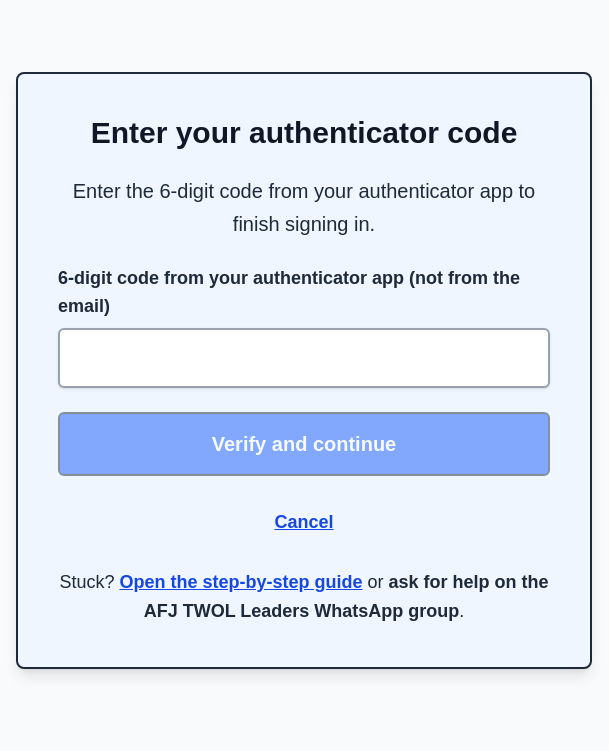
Test: LoginMfaCallbackPage › shows an error and does not navigate on if the server refuses the grant
The image size is (609, 751).
In the field labelled "6-digit code": (304, 358) [58,328,550,388], type "123456"
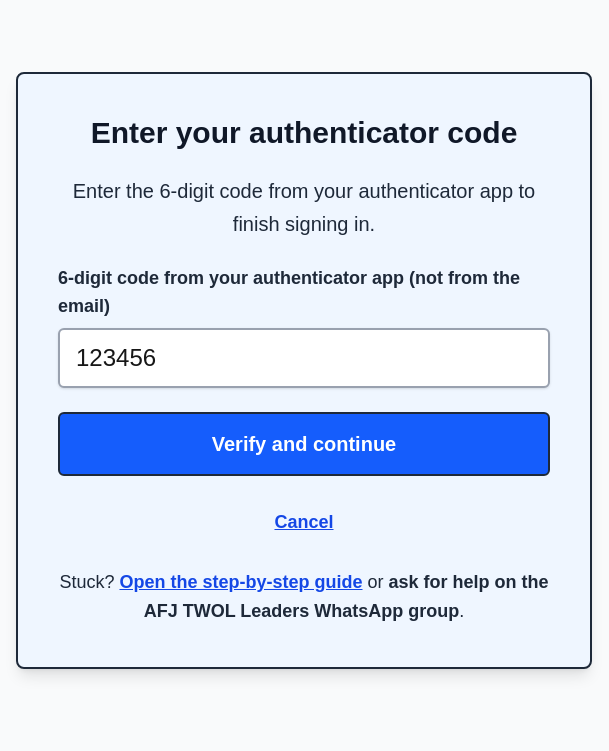
Click the button "Verify and continue": (304, 444) [58,412,550,476]
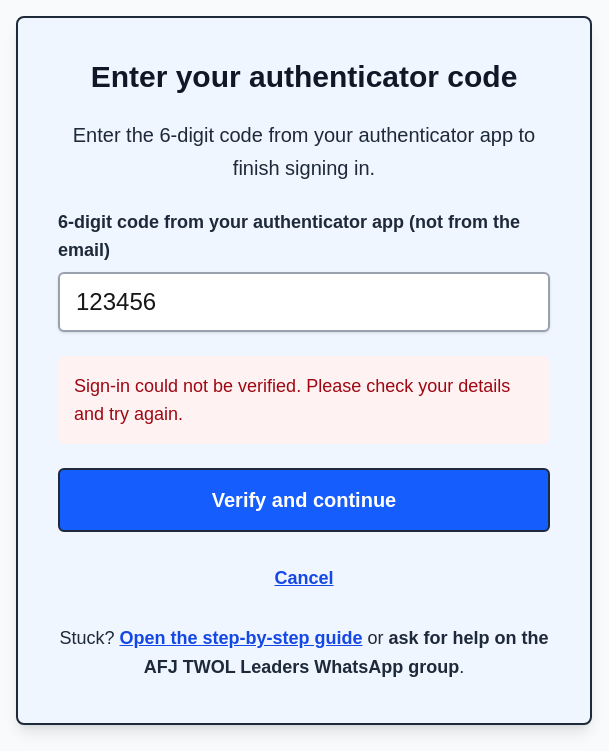
Expected: the message shows "could not be verified", [74,376,510,424]
